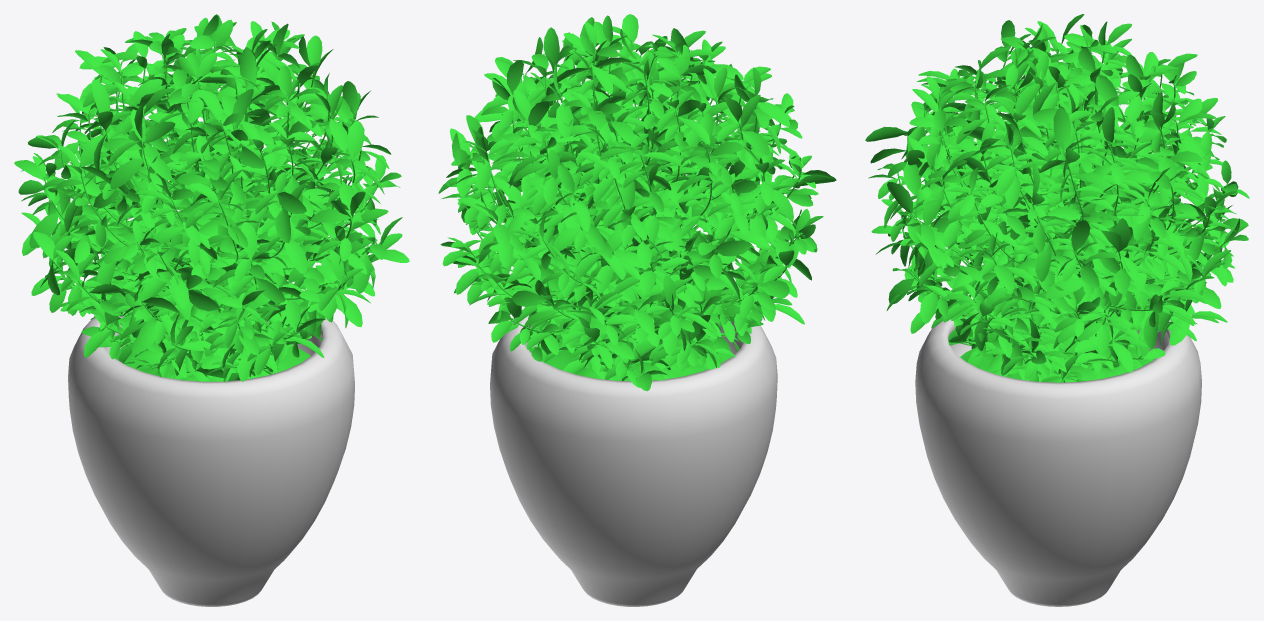
The model's file is plant.glb.
3 views of the same model, side by side, from view 1: azimuth 30°, elevation 25°; view 2: azimuth 150°, elevation 25°; view 3: azimuth 270°, elevation 25° (orthographic).
Parts seen in each view (by area): view 1: archmodel0.001; view 2: archmodel0.001; view 3: archmodel0.001.
Boxes of the visible parts, x1,y1,x2,y2 form: archmodel0.001: (14, 14, 409, 606); archmodel0.001: (438, 14, 836, 606); archmodel0.001: (865, 14, 1249, 606).
Size of the model in its own units: 1.39 by 2.25 by 1.43.
